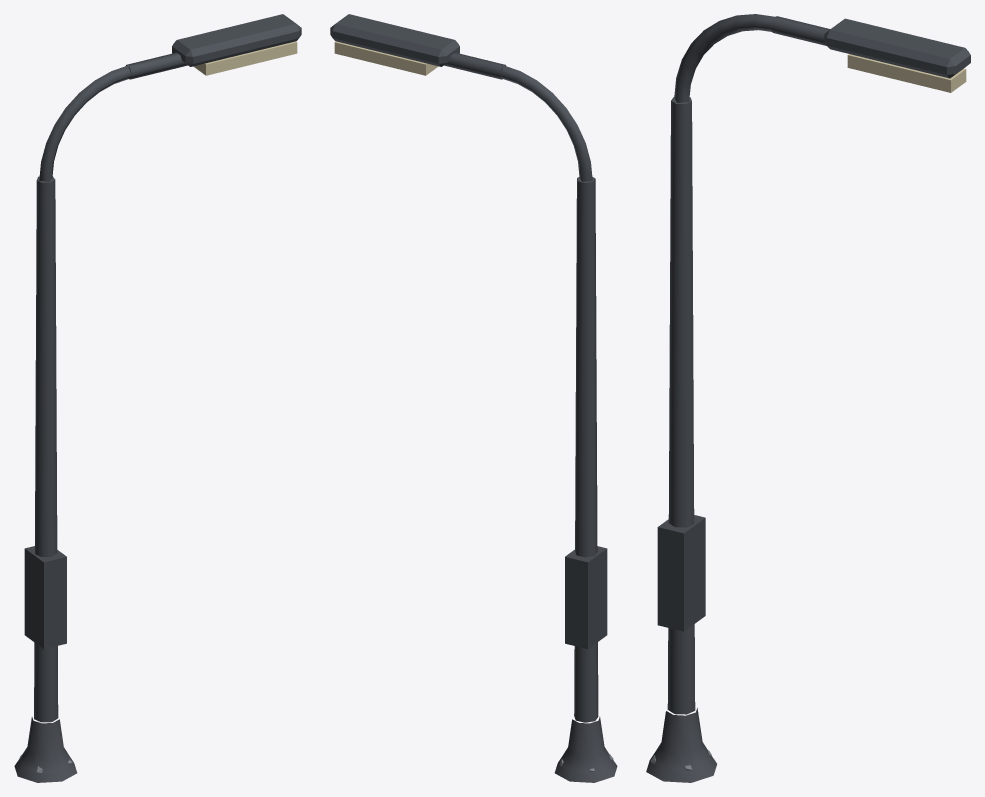
Rendered from street-lamp-01.glb.
The picture shows the model from 3 angles, left to right: view 1: azimuth 30°, elevation 25°; view 2: azimuth 150°, elevation 25°; view 3: azimuth 330°, elevation 25°; orthographic projection. The views are drawn at different scales.
Parts seen in each view (by area): view 1: street_lamp_01; view 2: street_lamp_01; view 3: street_lamp_01.
Boxes of the visible parts, x1=… form: street_lamp_01: x1=14, y1=14, x2=301, y2=782; street_lamp_01: x1=330, y1=14, x2=617, y2=782; street_lamp_01: x1=646, y1=14, x2=970, y2=782.
Size of the model in its own units: 1.67 by 3.98 by 0.3401.
